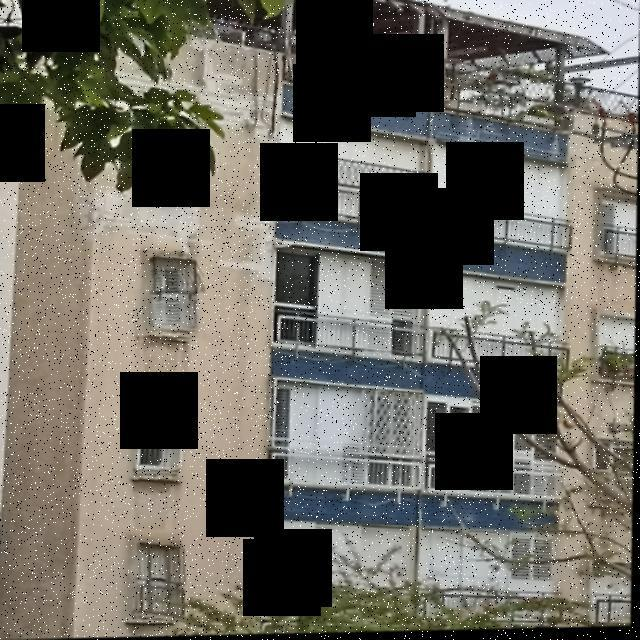Window: (133, 244, 205, 344), (134, 384, 203, 486), (146, 111, 206, 202), (132, 532, 192, 622)
